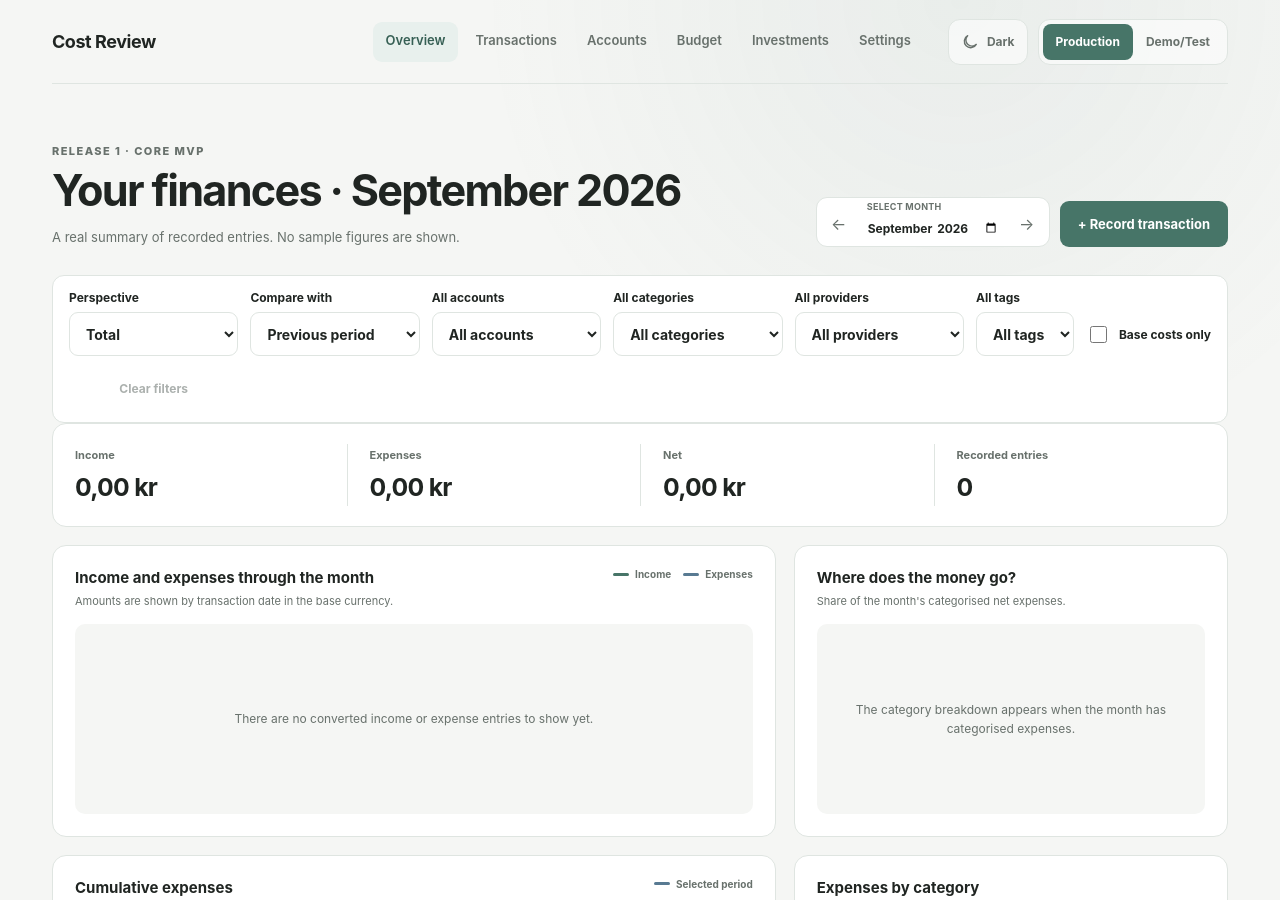
it: App › defaults the overview to the current month and can move to a previous month
This screenshot has width=1280, height=900.
Expected: the heading "Your finances · September 2026" is shown, [52, 167, 681, 214]
Expected: the field labelled "Select month" holds "2026-09", [858, 214, 1008, 244]
Click the button named "Previous month" at (839,224), box [820, 206, 858, 244]
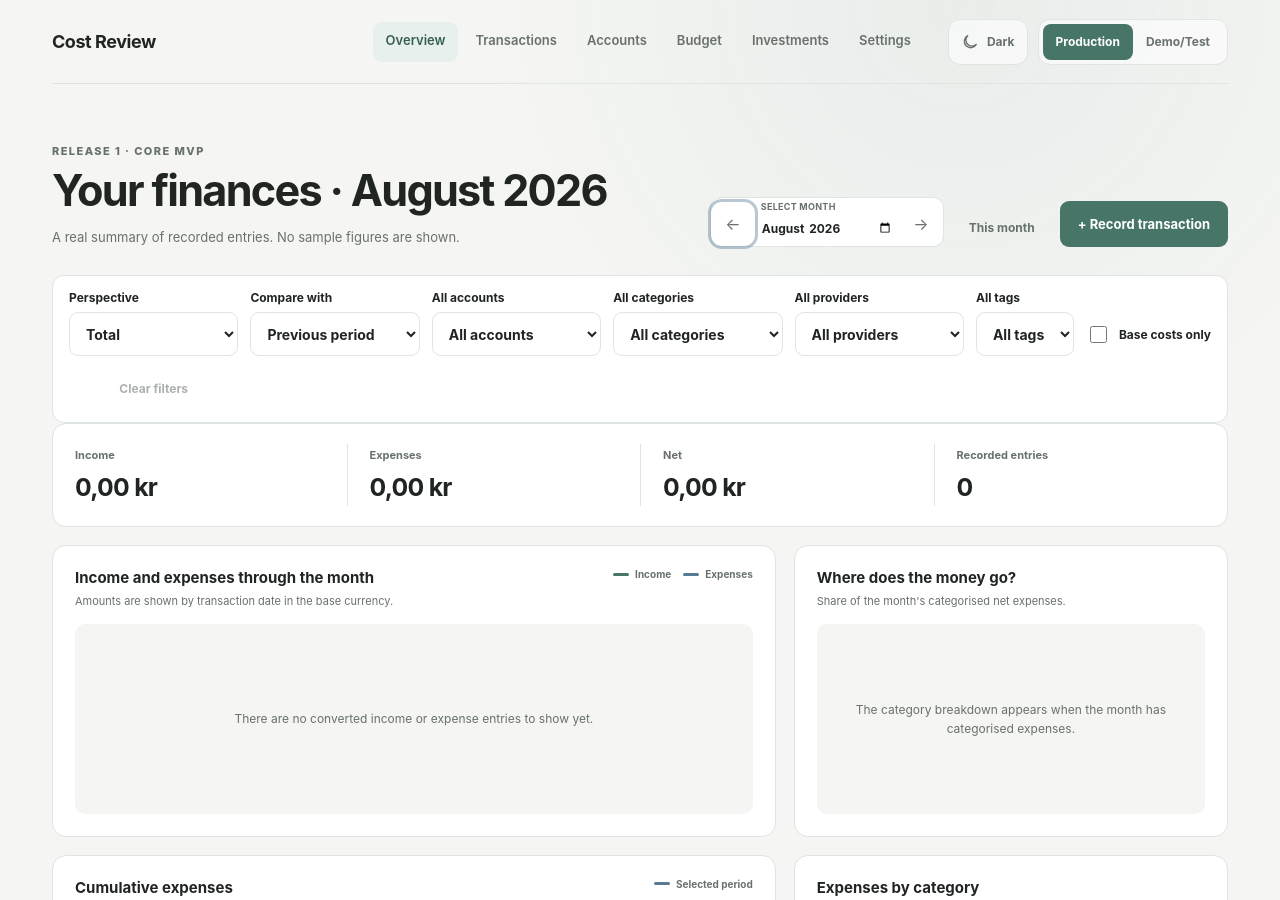
Expected: the field labelled "Select month" holds "2026-08", [752, 214, 902, 244]
Expected: the button "This month" is shown, [954, 208, 1050, 248]
